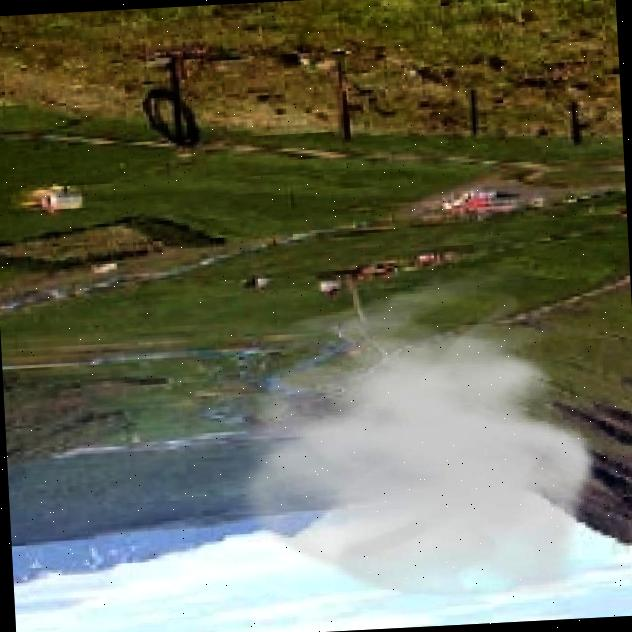smoke: (218, 259, 606, 621)
